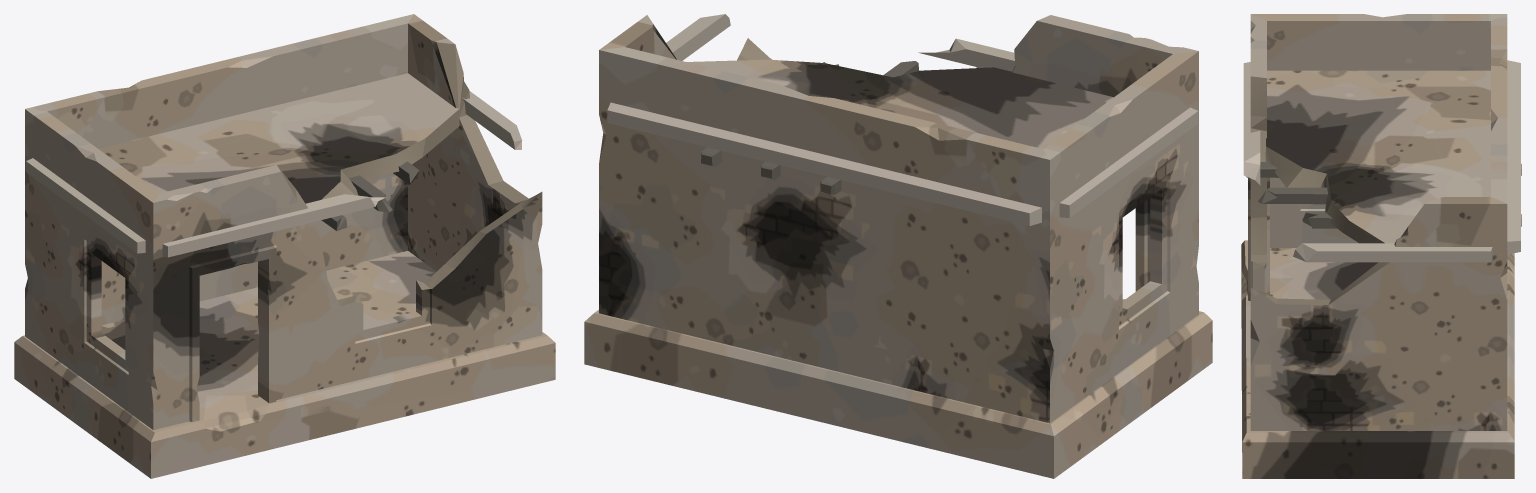
File: SM_Bld_Village_House_05_Destroyed.glb
3 views of the same model, side by side, from view 1: azimuth 30°, elevation 25°; view 2: azimuth 150°, elevation 25°; view 3: azimuth 270°, elevation 25° (orthographic). The views are drawn at different scales.
Parts seen in each view (by area): view 1: SM_Bld_Village_House_05_Destroyed; view 2: SM_Bld_Village_House_05_Destroyed; view 3: SM_Bld_Village_House_05_Destroyed.
Boxes of the visible parts, x1,y1,x2,y2 form: SM_Bld_Village_House_05_Destroyed: (14, 14, 555, 478); SM_Bld_Village_House_05_Destroyed: (584, 14, 1212, 478); SM_Bld_Village_House_05_Destroyed: (1241, 14, 1521, 478).
Size of the model in its own units: 7.18 by 4.58 by 4.3.
Materials: 1 (1 with a texture image).
